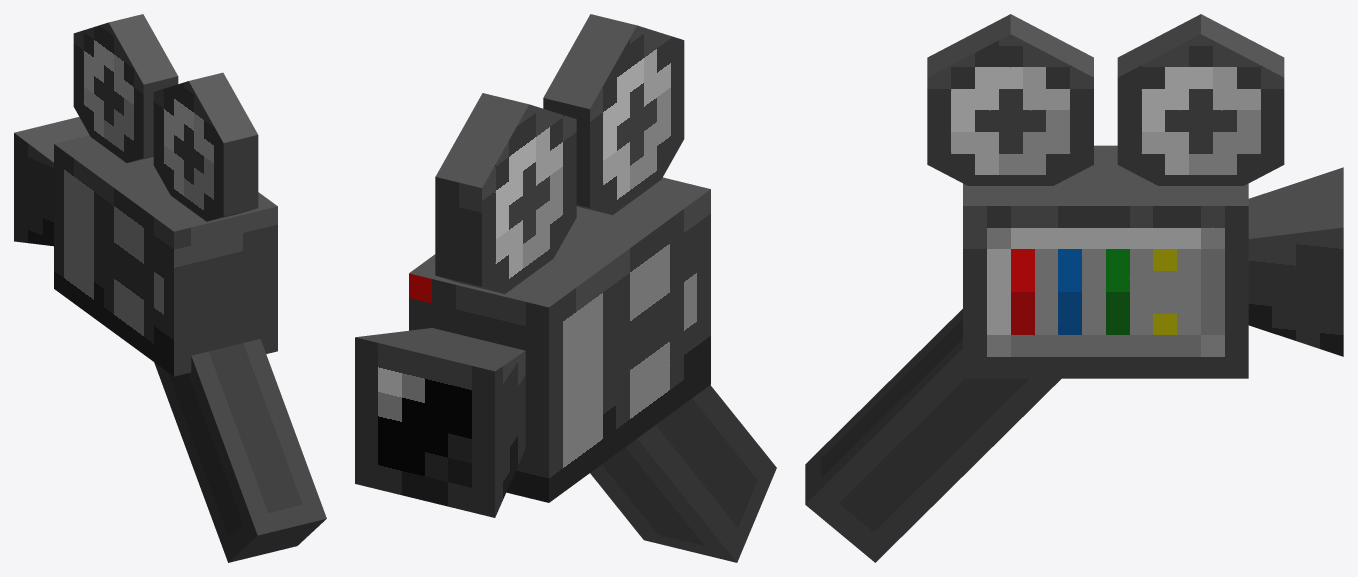
Rendered from Camera.fbx.
3 views of the same model, side by side, from view 1: azimuth 30°, elevation 25°; view 2: azimuth 150°, elevation 25°; view 3: azimuth 270°, elevation 25° (orthographic). The views are drawn at different scales.
Parts seen in each view (by area): view 1: cuboid, cuboid_2, cylinder_1, cylinder, cuboid_1; view 2: cuboid, cuboid_1, cylinder, cylinder_1, cuboid_2; view 3: cuboid, cuboid_2, cylinder, cylinder_1, cuboid_1.
Part boxes in pixels (box(x1,y1,x2,y2)): cuboid: box(54, 135, 277, 376); cuboid_2: box(154, 339, 326, 562); cylinder_1: box(153, 72, 258, 221); cylinder: box(73, 14, 178, 162); cuboid_1: box(14, 117, 89, 246); cuboid: box(409, 177, 710, 502); cuboid_1: box(355, 328, 525, 517); cylinder: box(435, 93, 576, 293); cylinder_1: box(543, 14, 684, 215); cuboid_2: box(590, 385, 776, 562); cuboid: box(963, 145, 1248, 378); cuboid_2: box(805, 309, 1061, 562); cylinder: box(1117, 14, 1284, 185); cylinder_1: box(927, 14, 1093, 185); cuboid_1: box(1248, 167, 1343, 356).
Bounding box in the file's own units: 37.5 × 150 × 141.
Materials: 1 (1 with a texture image).
